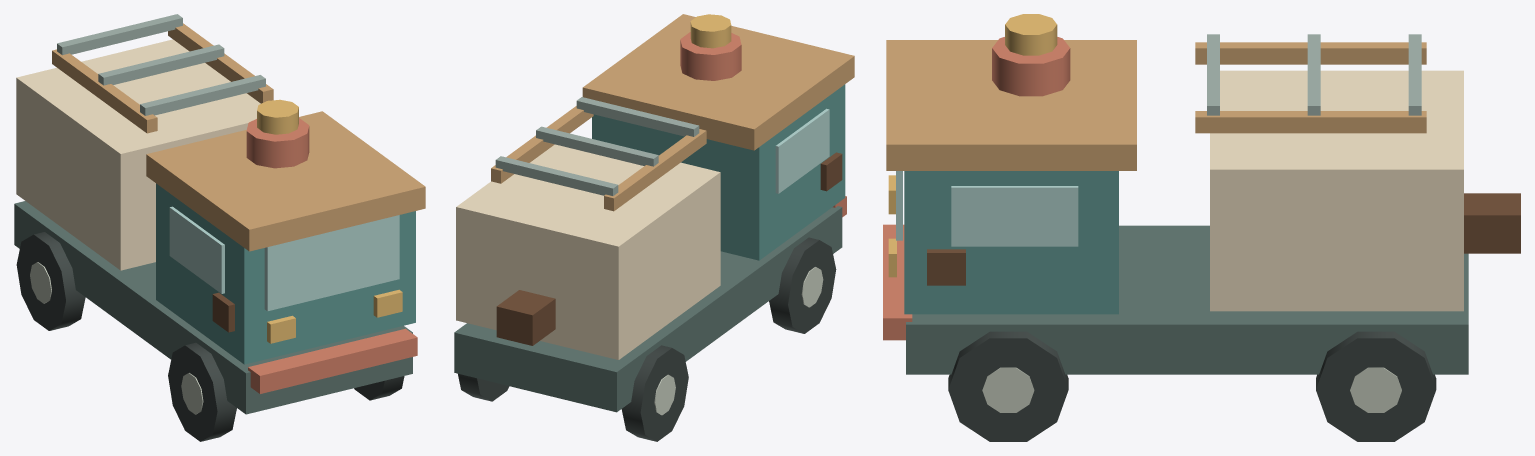
Rendered from recovery-vehicle.glb.
The picture shows the model from 3 angles, left to right: view 1: azimuth 30°, elevation 25°; view 2: azimuth 150°, elevation 25°; view 3: azimuth 270°, elevation 25°; orthographic projection. The views are drawn at different scales.
Parts seen in each view (by area): view 1: recovery-vehicle_cream, recovery-vehicle_woodLight, recovery-vehicle_teal, recovery-vehicle_metalDark, recovery-vehicle_glass, recovery-vehicle_warning, recovery-vehicle_metal, wheel_front_left_tire, wheel_rear_left_tire, recovery-vehicle_gold, recovery-vehicle_woodDark, wheel_front_right_tire (+2 smaller); view 2: recovery-vehicle_cream, recovery-vehicle_woodLight, recovery-vehicle_metalDark, recovery-vehicle_teal, recovery-vehicle_metal, wheel_rear_left_tire, wheel_front_left_tire, recovery-vehicle_woodDark, recovery-vehicle_glass, recovery-vehicle_warning, recovery-vehicle_gold, wheel_rear_right_tire (+2 smaller); view 3: recovery-vehicle_cream, recovery-vehicle_woodLight, recovery-vehicle_metalDark, recovery-vehicle_teal, wheel_rear_right_tire, wheel_front_right_tire, recovery-vehicle_glass, recovery-vehicle_warning, recovery-vehicle_woodDark, recovery-vehicle_metal, recovery-vehicle_gold, wheel_front_right_hub (+1 smaller).
Part boxes in pixels (x1,y1,x2,y2): recovery-vehicle_cream: (16, 39, 260, 270); recovery-vehicle_woodLight: (52, 23, 425, 251); recovery-vehicle_teal: (156, 183, 415, 364); recovery-vehicle_metalDark: (14, 201, 412, 414); recovery-vehicle_glass: (169, 206, 399, 311); recovery-vehicle_warning: (246, 118, 417, 393); recovery-vehicle_metal: (57, 14, 265, 115); wheel_front_left_tire: (168, 342, 236, 441); wheel_rear_left_tire: (16, 232, 85, 330); recovery-vehicle_gold: (257, 99, 402, 343); recovery-vehicle_woodDark: (212, 292, 234, 332); wheel_front_right_tire: (354, 376, 404, 400); recovery-vehicle_cream: (456, 144, 720, 359); recovery-vehicle_woodLight: (491, 14, 854, 211); recovery-vehicle_metalDark: (454, 206, 842, 412); recovery-vehicle_teal: (592, 84, 845, 260); recovery-vehicle_metal: (495, 97, 699, 195); wheel_rear_left_tire: (621, 345, 688, 441); wheel_front_left_tire: (769, 237, 836, 333); recovery-vehicle_woodDark: (496, 152, 842, 345); recovery-vehicle_glass: (775, 108, 829, 193); recovery-vehicle_warning: (680, 32, 846, 217); recovery-vehicle_gold: (690, 14, 731, 48); wheel_rear_right_tire: (458, 373, 509, 401); recovery-vehicle_cream: (1210, 70, 1463, 311); recovery-vehicle_woodLight: (886, 40, 1426, 170); recovery-vehicle_metalDark: (906, 225, 1468, 374); recovery-vehicle_teal: (904, 171, 1118, 314); wheel_rear_right_tire: (1316, 331, 1436, 441); wheel_front_right_tire: (948, 331, 1068, 441); recovery-vehicle_glass: (896, 171, 1078, 246); recovery-vehicle_warning: (883, 37, 1070, 340); recovery-vehicle_woodDark: (927, 193, 1520, 285); recovery-vehicle_metal: (1207, 34, 1421, 115); recovery-vehicle_gold: (888, 14, 1057, 277); wheel_front_right_hub: (982, 367, 1034, 412).
Bounding box in the file's own units: 0.822 × 1.23 × 1.96.
